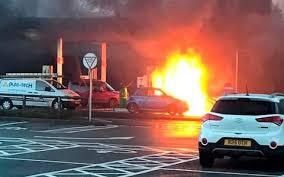fire: (149, 49, 216, 117)
